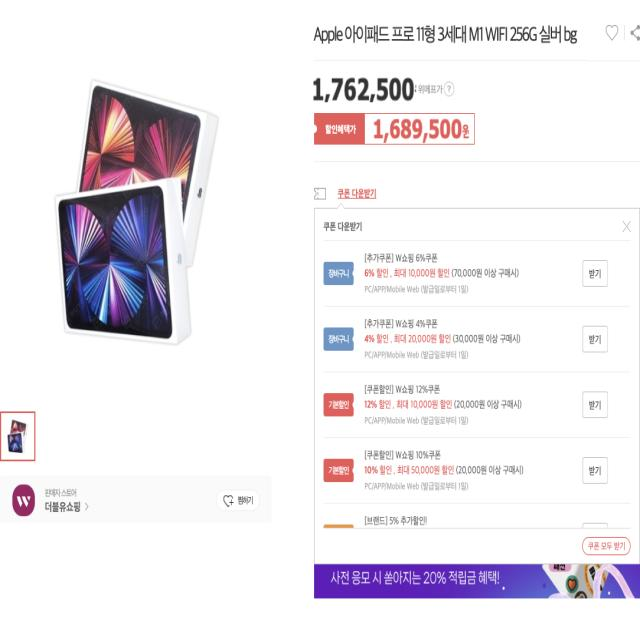product_discount_price: (372, 117, 469, 145)
product_name: (308, 20, 589, 67)
product_original_price: (314, 76, 417, 102)
